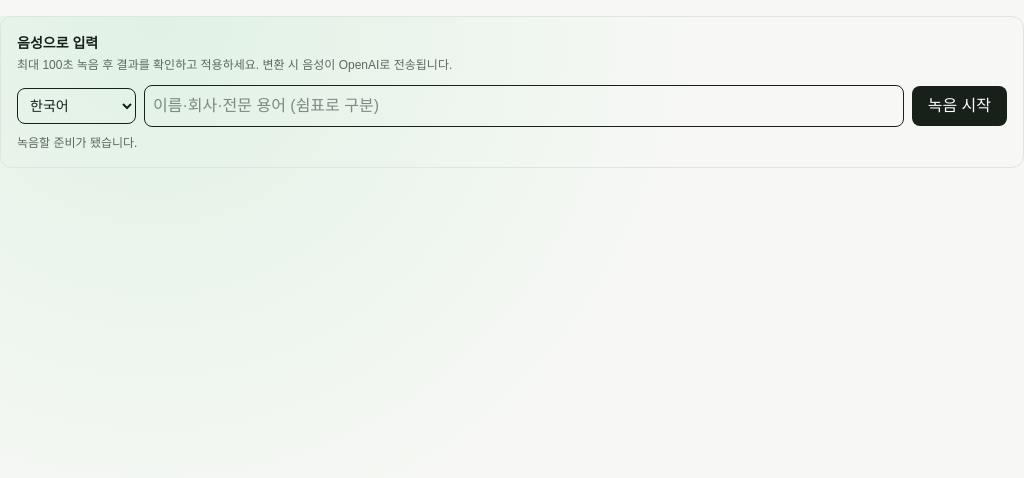
Test: short voice input › keeps oversized text for review instead of silently truncating
The width and height of the screenshot is (1024, 478).
Click the button "녹음 시작" at (959, 106), box [912,86,1007,126]
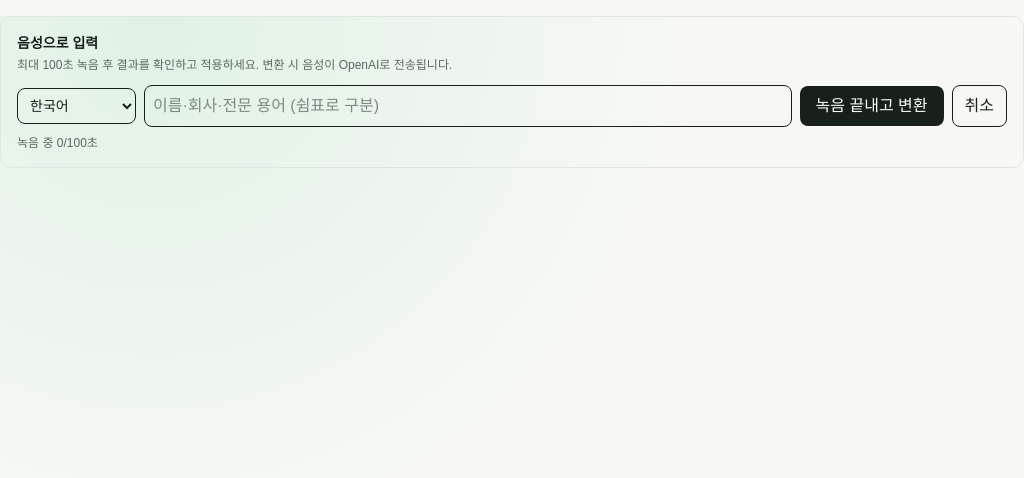
expect the button "녹음 끝내고 변환" is shown: met
Click the button "녹음 끝내고 변환" at (872, 106), box [800,86,944,126]
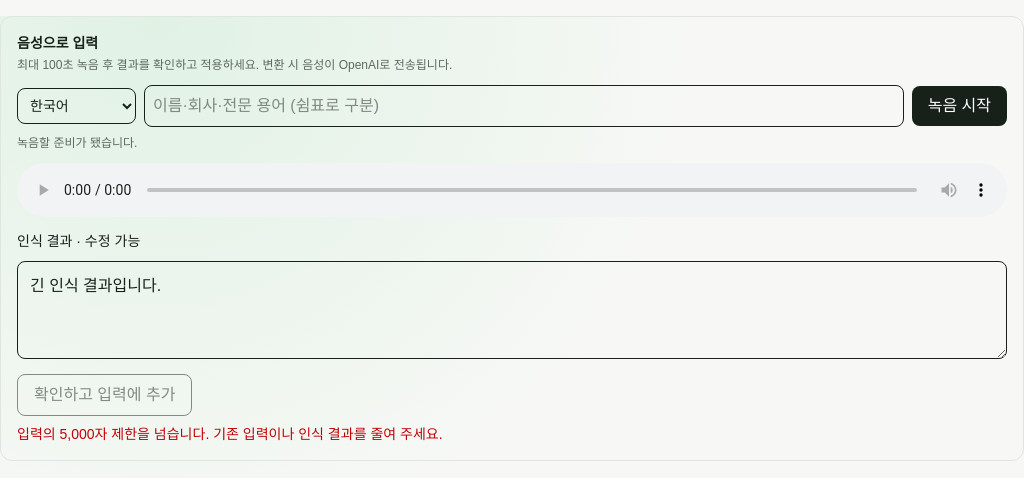
expect the text box labelled "인식 결과 · 수정 가능" is shown: met, box [17,261,1007,359]
expect the button "확인하고 입력에 추가" is disabled: met, box [17,374,192,416]
